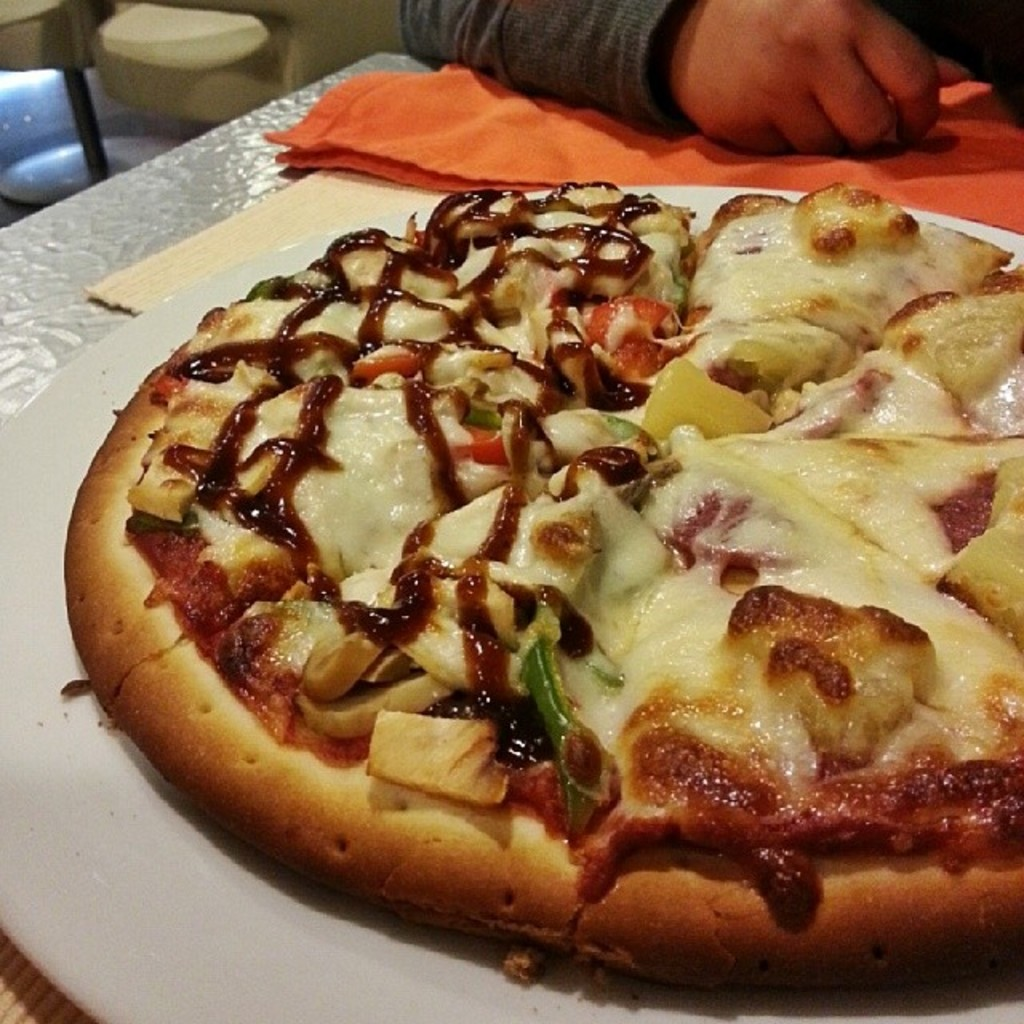Pizza: (33, 161, 1024, 944)
